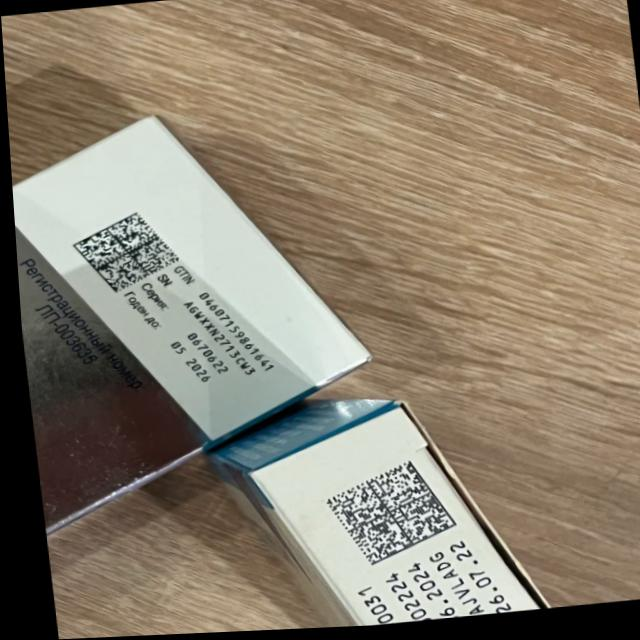datamatrix: (316, 461, 455, 574), (66, 209, 183, 299)
